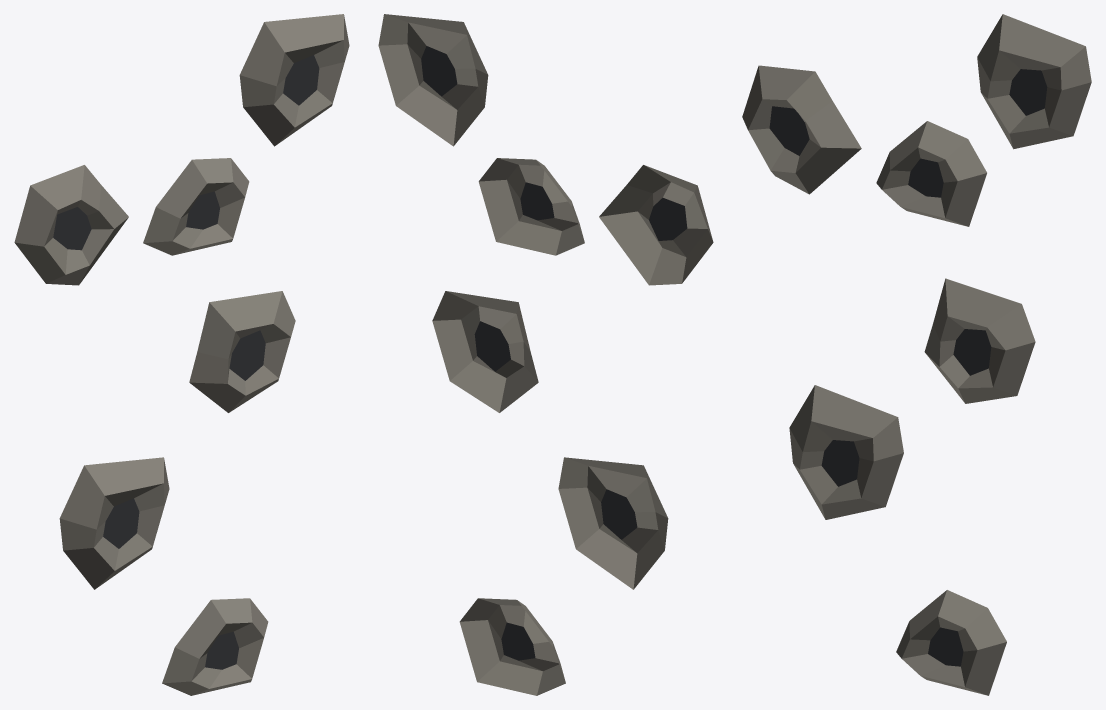
File: SM_Bullet_Hole_D.fbx
3 renders of one model, left to right at view 1: azimuth 30°, elevation 25°; view 2: azimuth 150°, elevation 25°; view 3: azimuth 330°, elevation 25°, orthographic. The views are drawn at different scales.
Parts seen in each view (by area): view 1: SM_Bullet_Hole_D; view 2: SM_Bullet_Hole_D; view 3: SM_Bullet_Hole_D.
Boxes of the visible parts, x1=… form: SM_Bullet_Hole_D: x1=14, y1=14, x2=349, y2=695; SM_Bullet_Hole_D: x1=378, y1=14, x2=713, y2=695; SM_Bullet_Hole_D: x1=742, y1=14, x2=1091, y2=695.
Size of the model in its own units: 77.24 by 145 by 4.82.
